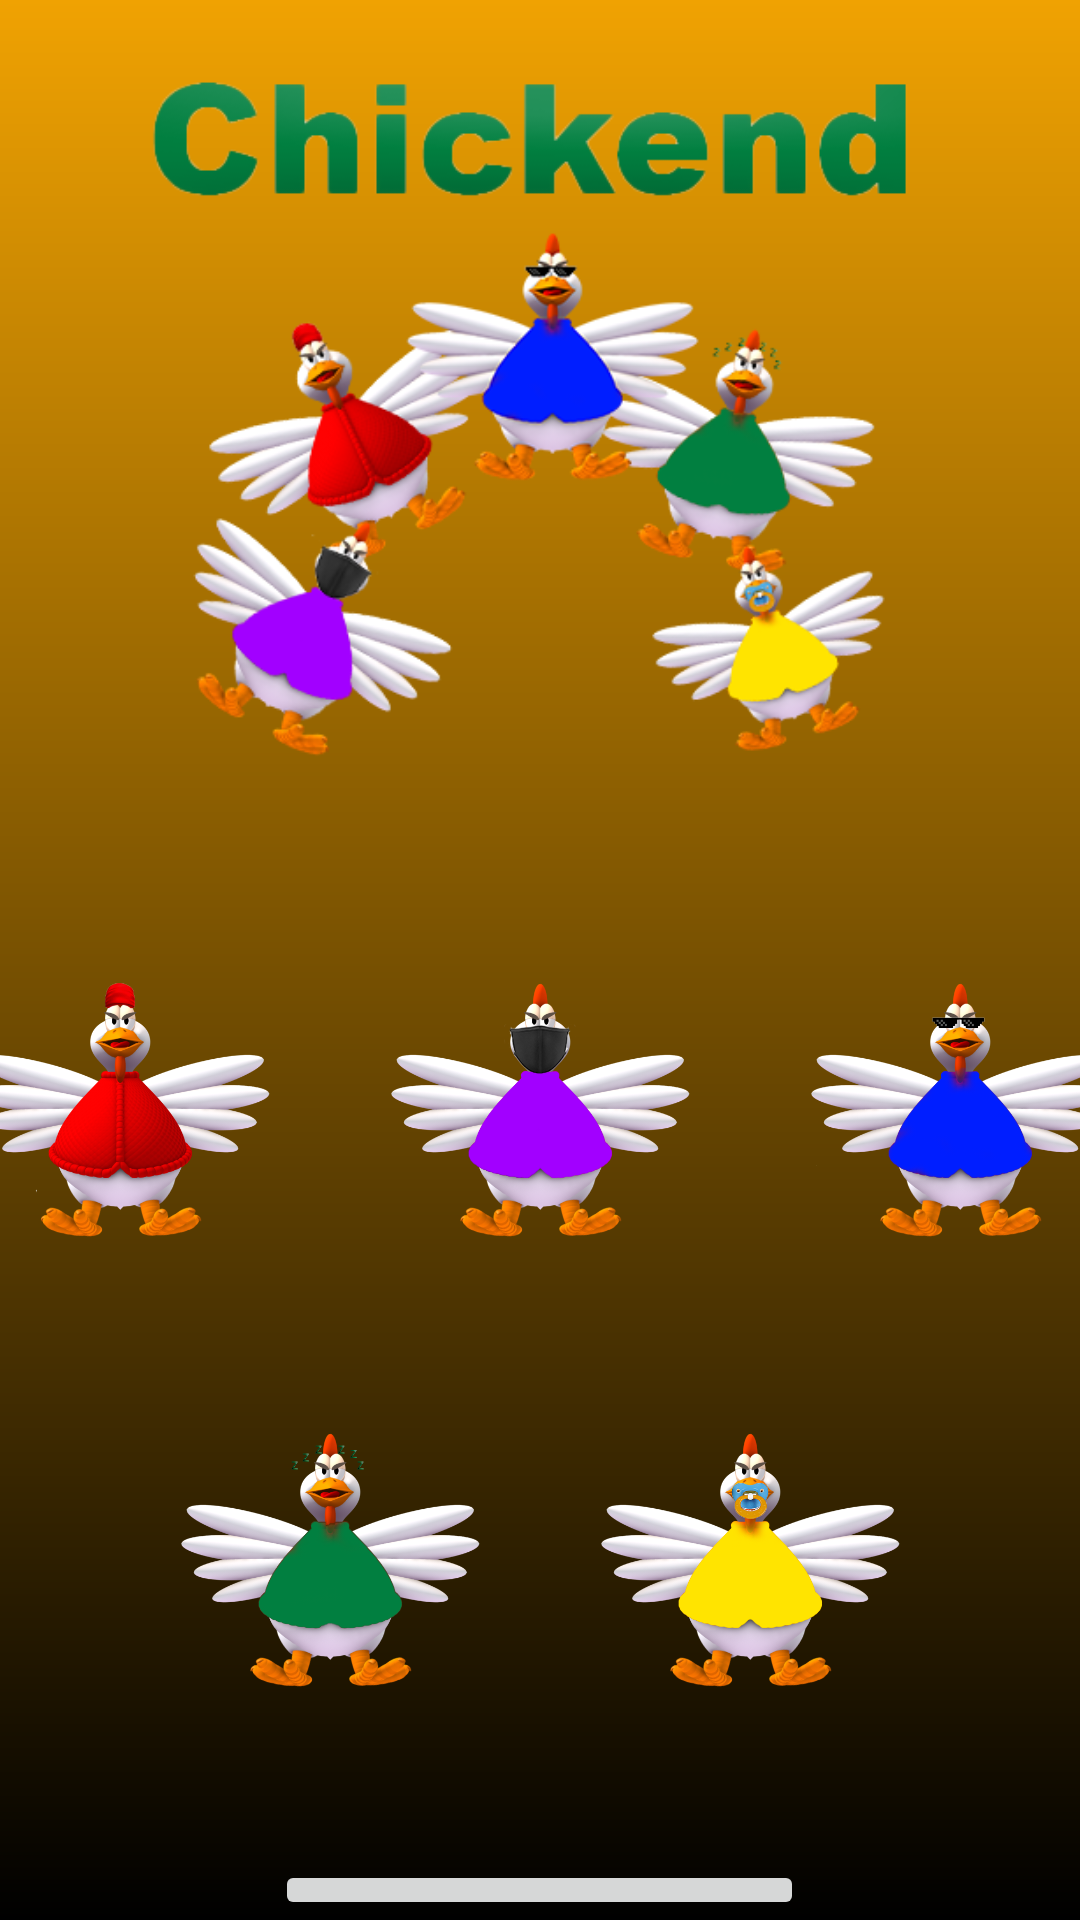

Screen size 1080px×1920px. Icon name, then its center in pixels as [x,y]:
chick picture: [750,1560]
covid chicken picture: [540,1110]
crazy chicken picture: [330,1560]
mother chicken picture: [135,1110]
